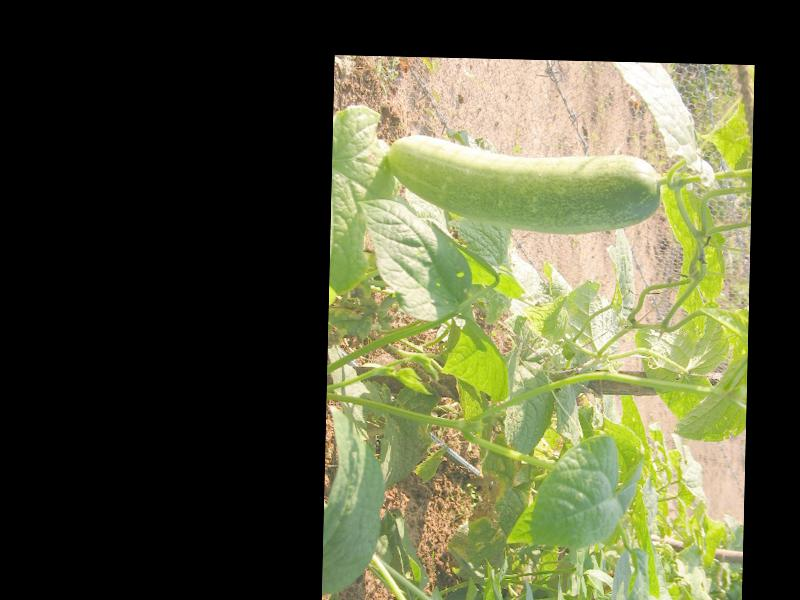Cucumber: (386, 134, 660, 235)
